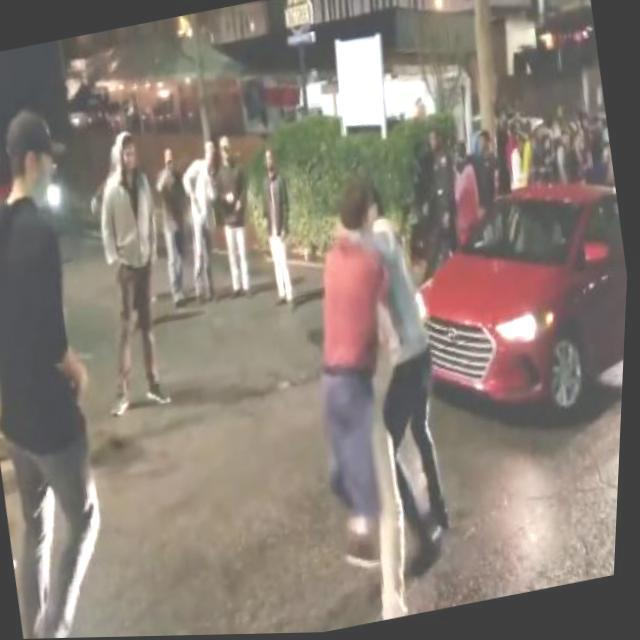fight: (280, 163, 490, 627)
